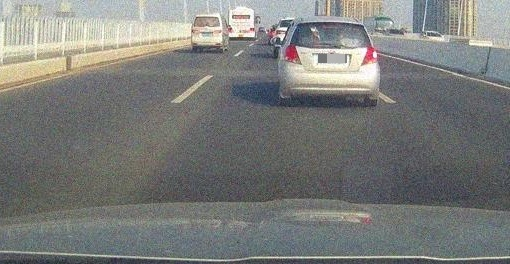L_light: (283, 44, 302, 65), (192, 30, 198, 33), (228, 27, 232, 31)
R_light: (361, 45, 377, 67), (214, 30, 222, 33), (250, 28, 255, 31)
T_light: (324, 22, 336, 25), (205, 17, 210, 19), (239, 10, 244, 12)
day-no: (191, 14, 223, 52), (228, 7, 255, 41)
day-right: (279, 16, 380, 105)
plate_1: (318, 54, 347, 63)
